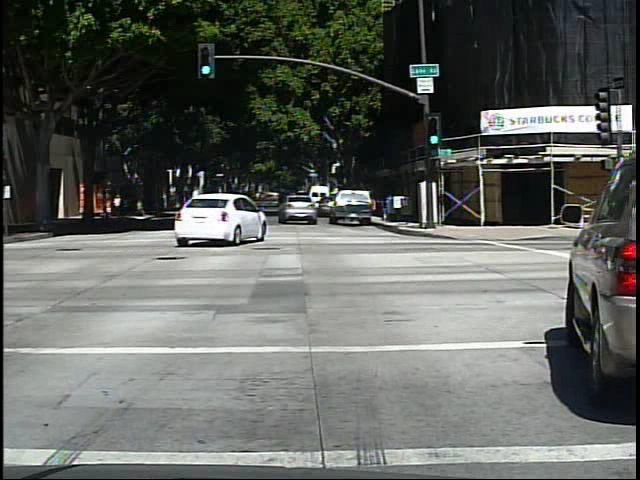person: (111, 191, 127, 222)
